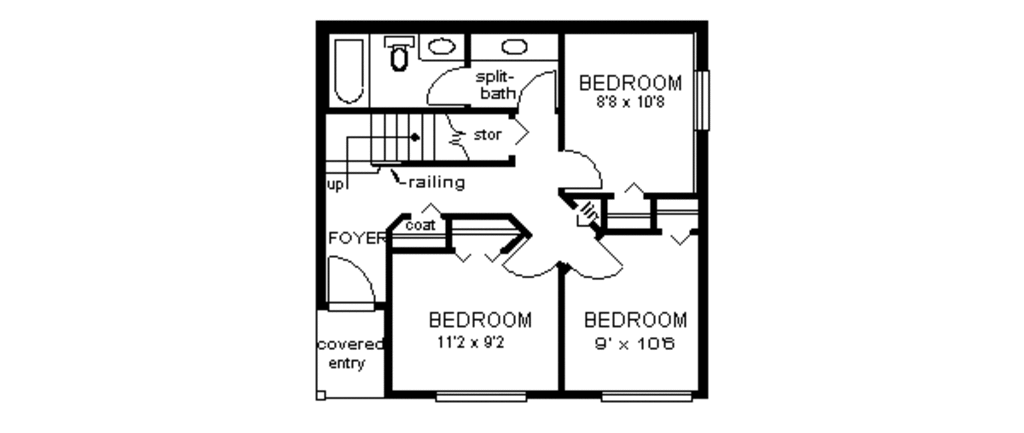door: (496, 233, 570, 284), (325, 253, 379, 317), (572, 233, 626, 287), (554, 145, 608, 194), (420, 70, 478, 105), (515, 73, 557, 113)
large_sink: (380, 33, 420, 80)
small_sink: (413, 29, 560, 65)
stairs: (329, 115, 497, 190)
tub: (319, 36, 373, 107)
window: (437, 388, 530, 407), (692, 74, 714, 127), (601, 389, 692, 399)
